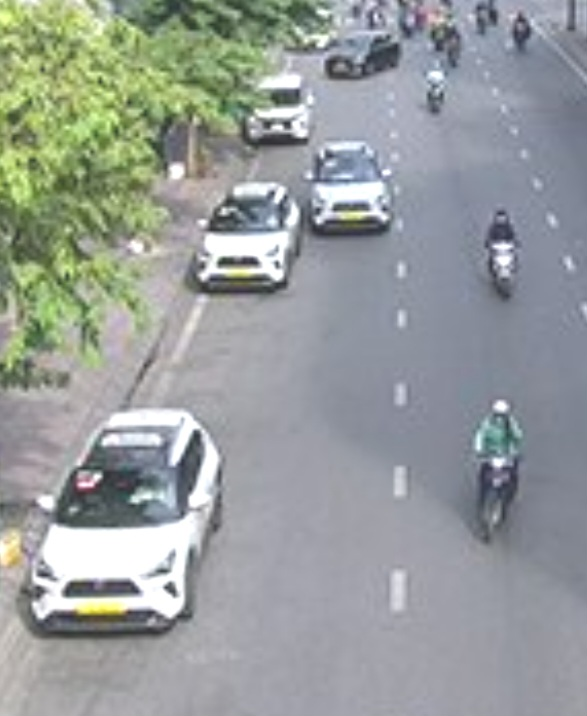car: (23, 400, 226, 643), (201, 177, 302, 294), (313, 141, 394, 236), (248, 76, 317, 144), (324, 28, 402, 79)
